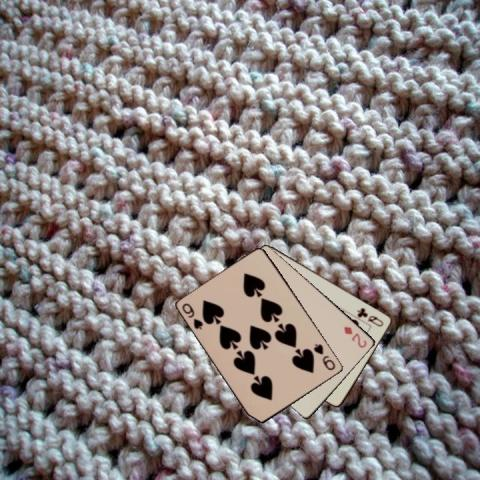2d: (341, 324, 369, 350)
9s: (310, 341, 336, 372), (179, 300, 205, 331)
Qc: (355, 305, 385, 328)
